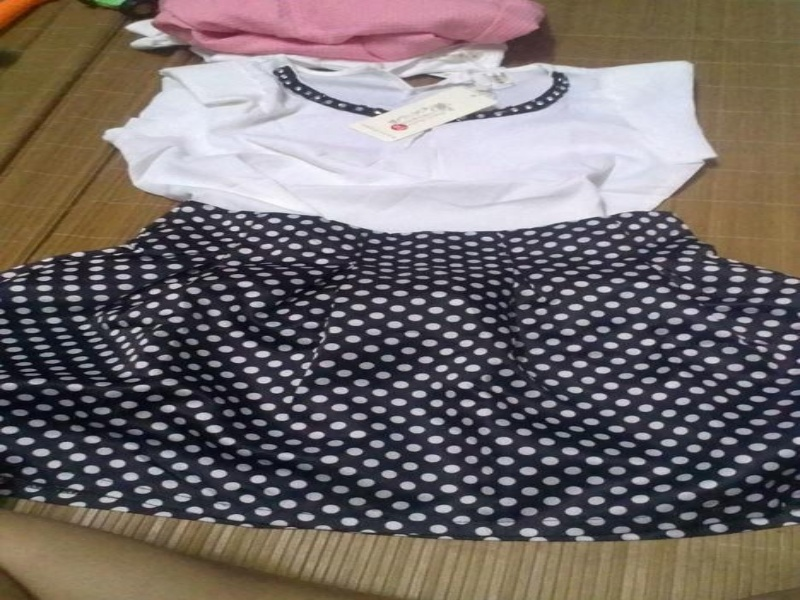skirt: (0, 198, 797, 546)
vest: (89, 54, 721, 239)
